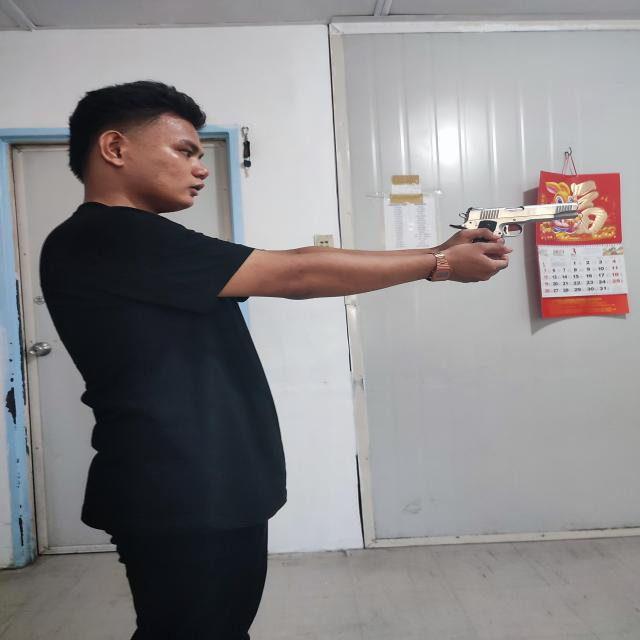pistol: (448, 202, 576, 243)
